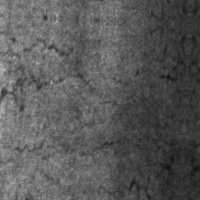crazing: (0, 38, 120, 116), (9, 129, 174, 171), (99, 164, 161, 199)
